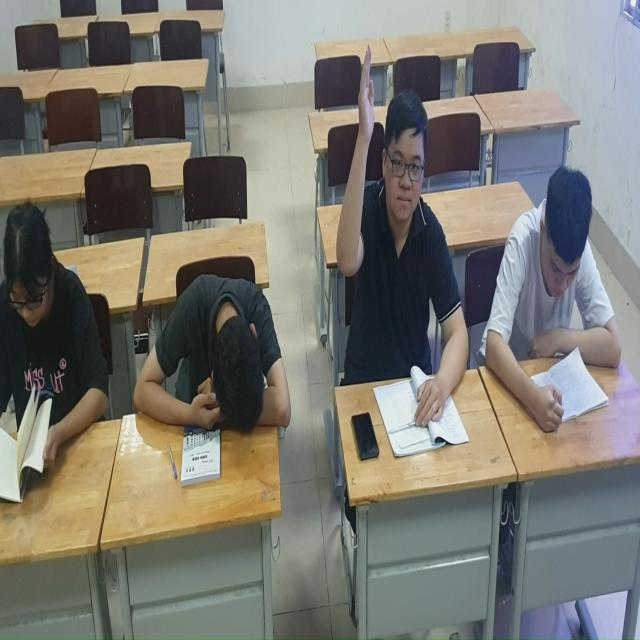raise_hand: (337, 45, 475, 442)
read: (486, 156, 635, 438), (1, 196, 115, 514)
sleep: (132, 265, 297, 468)
